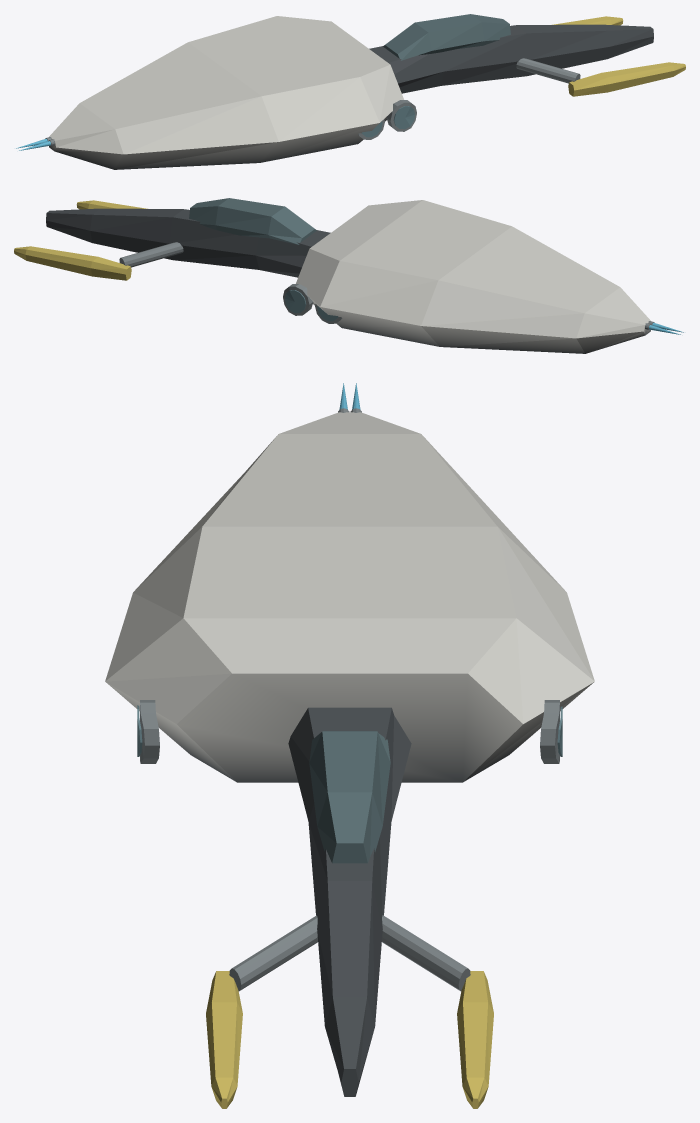
File: opal_jet_white_flight.glb
3 views of the same model, one above another, from view 1: azimuth 30°, elevation 25°; view 2: azimuth 150°, elevation 25°; view 3: azimuth 270°, elevation 25° (orthographic). The views are drawn at different scales.
Parts seen in each view (by area): view 1: rear_lower_hull_0, front_spar_1, cockpit_shell_2, forward_pods_5, outrigger_support_4, side_thruster_face_7, side_thruster_casing_6; view 2: rear_lower_hull_0, front_spar_1, cockpit_shell_2, forward_pods_5, outrigger_support_4, side_thruster_face_7, side_thruster_casing_6; view 3: rear_lower_hull_0, front_spar_1, cockpit_shell_2, forward_pods_5, outrigger_support_4, side_thruster_casing_6.
Part boxes in pixels (x1,y1,x2,y2): rear_lower_hull_0: (49, 16, 403, 169); front_spar_1: (369, 24, 653, 93); cockpit_shell_2: (383, 14, 510, 60); forward_pods_5: (552, 16, 685, 96); outrigger_support_4: (516, 58, 580, 83); side_thruster_face_7: (361, 106, 415, 137); side_thruster_casing_6: (358, 100, 416, 139); rear_lower_hull_0: (296, 200, 650, 353); front_spar_1: (46, 208, 330, 277); cockpit_shell_2: (189, 198, 316, 244); forward_pods_5: (14, 200, 147, 280); outrigger_support_4: (119, 242, 183, 267); side_thruster_face_7: (284, 290, 338, 321); side_thruster_casing_6: (283, 284, 342, 323); rear_lower_hull_0: (105, 412, 594, 782); front_spar_1: (288, 707, 411, 1096); cockpit_shell_2: (309, 731, 390, 863); forward_pods_5: (206, 971, 493, 1108); outrigger_support_4: (229, 915, 470, 991); side_thruster_casing_6: (140, 700, 559, 763).
Bounding box in the file's own units: 10.53 × 1.33 × 3.5.
